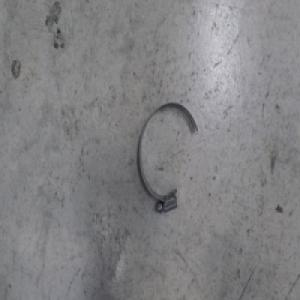AdjustableClamp: (137, 100, 199, 214)
